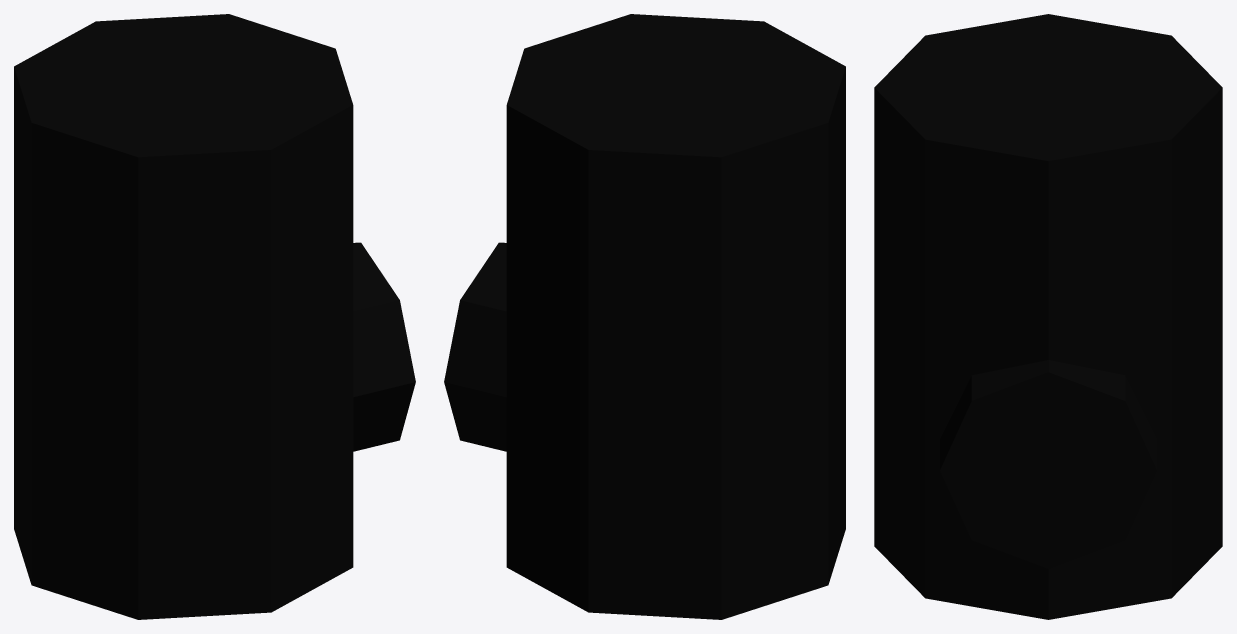
File: MK4_HT_simplified.glb
3 renders of one model, left to right at view 1: azimuth 30°, elevation 25°; view 2: azimuth 150°, elevation 25°; view 3: azimuth 270°, elevation 25°, orthographic.
Visible parts, largest first — view 1: Cylinder, Cylinder.001; view 2: Cylinder, Cylinder.001; view 3: Cylinder, Cylinder.001.
Part boxes in pixels (x1,y1,x2,y2): Cylinder: (14, 14, 353, 619); Cylinder.001: (353, 242, 415, 451); Cylinder: (506, 14, 845, 619); Cylinder.001: (444, 242, 506, 451); Cylinder: (874, 14, 1222, 619); Cylinder.001: (940, 360, 1156, 568).
Bounding box in the file's own units: 0.0932 × 0.125 × 0.086.
2 materials, 2 textured.
